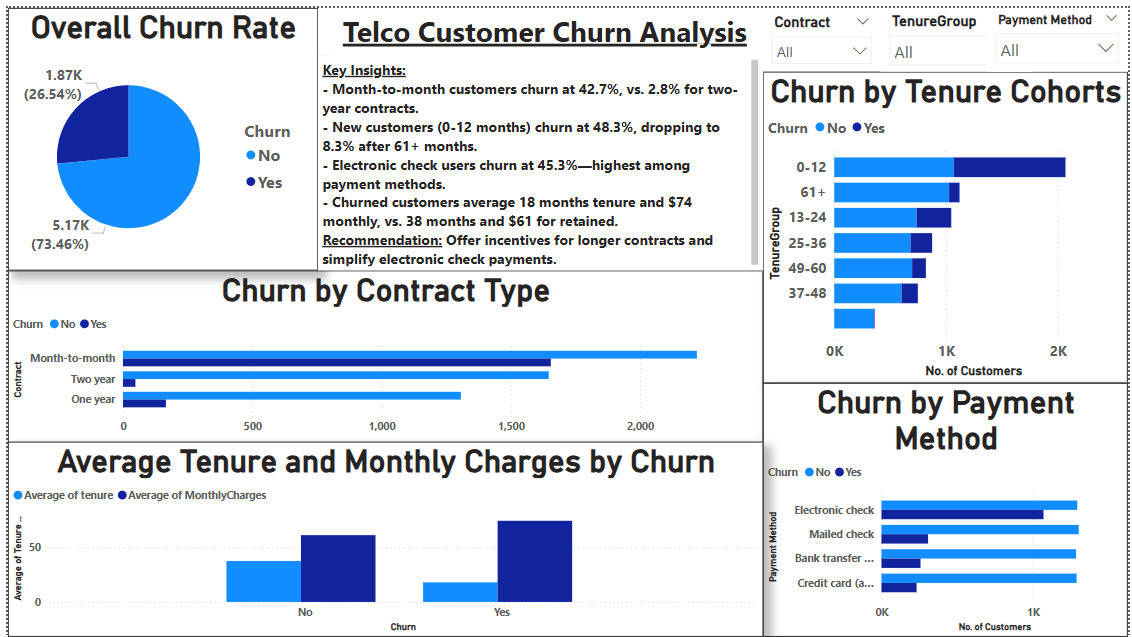

This screenshot's page, from the dashboard's own definition file:
{"tool":"powerbi","page":{"name":"Report","canvas":[1280,720],"ordinal":5},"visuals":[{"type":"clusteredBarChart","title":"Churn by Contract Type","fields":{"Series":["WA_Fn-UseC_-Telco-Customer-Churn.Churn"],"Category":["WA_Fn-UseC_-Telco-Customer-Churn.Contract"],"Y":["CountNonNull(WA_Fn-UseC_-Telco-Customer-Churn.customerID)"]},"box":[0,300,862.9,197.1],"z":0},{"type":"pieChart","title":"Overall Churn Rate","fields":{"Category":["WA_Fn-UseC_-Telco-Customer-Churn.Churn"],"Y":["CountNonNull(WA_Fn-UseC_-Telco-Customer-Churn.customerID)"]},"box":[0,0,354.3,300],"z":1000},{"type":"barChart","title":"Churn by Tenure Cohorts","fields":{"Category":["WA_Fn-UseC_-Telco-Customer-Churn.TenureGroup"],"Series":["WA_Fn-UseC_-Telco-Customer-Churn.Churn"],"Y":["CountNonNull(WA_Fn-UseC_-Telco-Customer-Churn.customerID)"]},"box":[862.9,72.9,417.1,355.7],"z":2000},{"type":"clusteredBarChart","title":"Churn by Payment Method","fields":{"Category":["WA_Fn-UseC_-Telco-Customer-Churn.PaymentMethod"],"Y":["CountNonNull(WA_Fn-UseC_-Telco-Customer-Churn.customerID)"],"Series":["WA_Fn-UseC_-Telco-Customer-Churn.Churn"]},"box":[862.9,428.6,417.1,291.4],"z":3000},{"type":"clusteredColumnChart","title":"Average Tenure and Monthly Charges by Churn","fields":{"Category":["WA_Fn-UseC_-Telco-Customer-Churn.Churn"],"Y":["Avg(WA_Fn-UseC_-Telco-Customer-Churn.tenure)","Avg(WA_Fn-UseC_-Telco-Customer-Churn.MonthlyCharges)"]},"box":[0,495.7,862.9,224.3],"z":4000},{"type":"slicer","fields":{"Values":["WA_Fn-UseC_-Telco-Customer-Churn.Contract"]},"box":[862.9,1.4,134.3,71.4],"z":5000},{"type":"slicer","fields":{"Values":["WA_Fn-UseC_-Telco-Customer-Churn.TenureGroup"]},"box":[997.1,0,174.3,72.9],"z":6000},{"type":"slicer","fields":{"Values":["WA_Fn-UseC_-Telco-Customer-Churn.PaymentMethod"]},"box":[1118.6,0,161.4,72.9],"z":7000},{"type":"textbox","box":[354.3,0,518.6,54.3],"z":7001},{"type":"textbox","box":[354.3,54.3,508.6,245.7],"z":7002}]}

Visuals, with their boxes in screenshot pixels (x1, y1, x2, y2), scaled from the page's 1280x720 canvas onto the 1132x637 screenshot:
"Churn by Contract Type" clusteredBarChart: 0 265 763 440
"Overall Churn Rate" pieChart: 0 0 313 265
"Churn by Tenure Cohorts" barChart: 763 64 1131 379
"Churn by Payment Method" clusteredBarChart: 763 379 1131 636
"Average Tenure and Monthly Charges by Churn" clusteredColumnChart: 0 439 763 636
slicer - WA_Fn-UseC_-Telco-Customer-Churn.Contract: 763 1 882 64
slicer - WA_Fn-UseC_-Telco-Customer-Churn.TenureGroup: 882 0 1036 64
slicer - WA_Fn-UseC_-Telco-Customer-Churn.PaymentMethod: 989 0 1131 64
textbox: 313 0 772 48
textbox: 313 48 763 265
